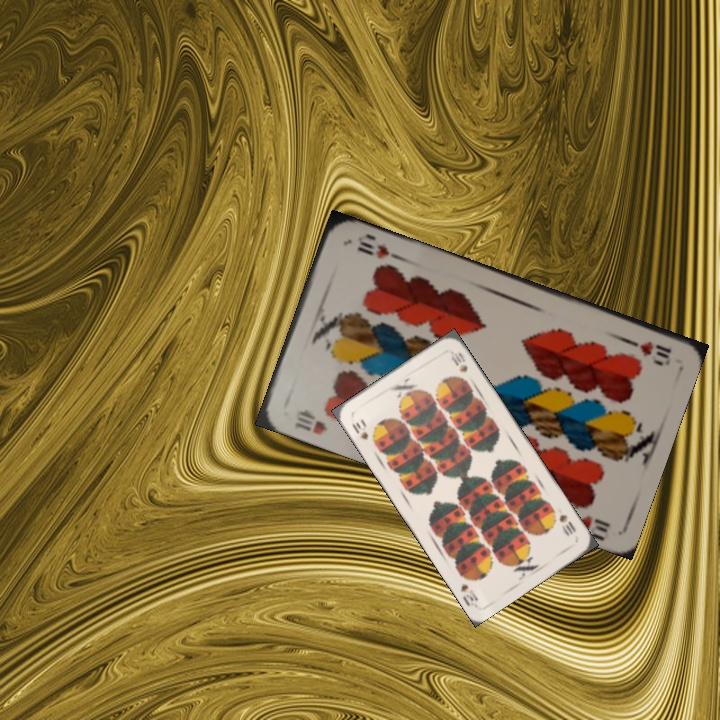H10: (619, 333, 674, 367), (290, 405, 331, 438)
S10: (555, 510, 579, 539), (347, 418, 371, 442)
